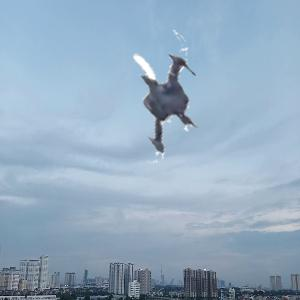drone: (98, 29, 229, 160)
